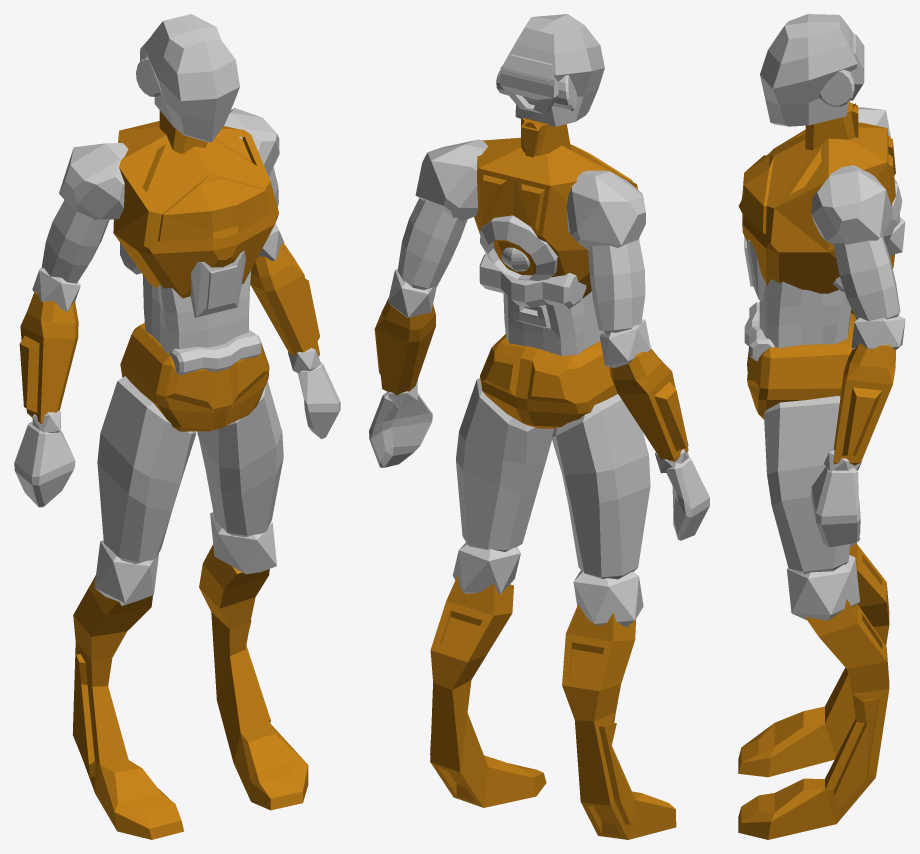
File: player_ORNG.obj
3 renders of one model, left to right at view 1: azimuth 30°, elevation 25°; view 2: azimuth 150°, elevation 25°; view 3: azimuth 270°, elevation 25°, orthographic. The views are drawn at different scales.
Parts seen in each view (by area): view 1: chest_Cube.001; view 2: chest_Cube.001; view 3: chest_Cube.001.
Boxes of the visible parts, <box> form: chest_Cube.001: <box>14,14,340,839</box>; chest_Cube.001: <box>369,14,709,839</box>; chest_Cube.001: <box>738,14,905,839</box>.
Bounding box in the file's own units: 4.41 × 10.47 × 2.05.
